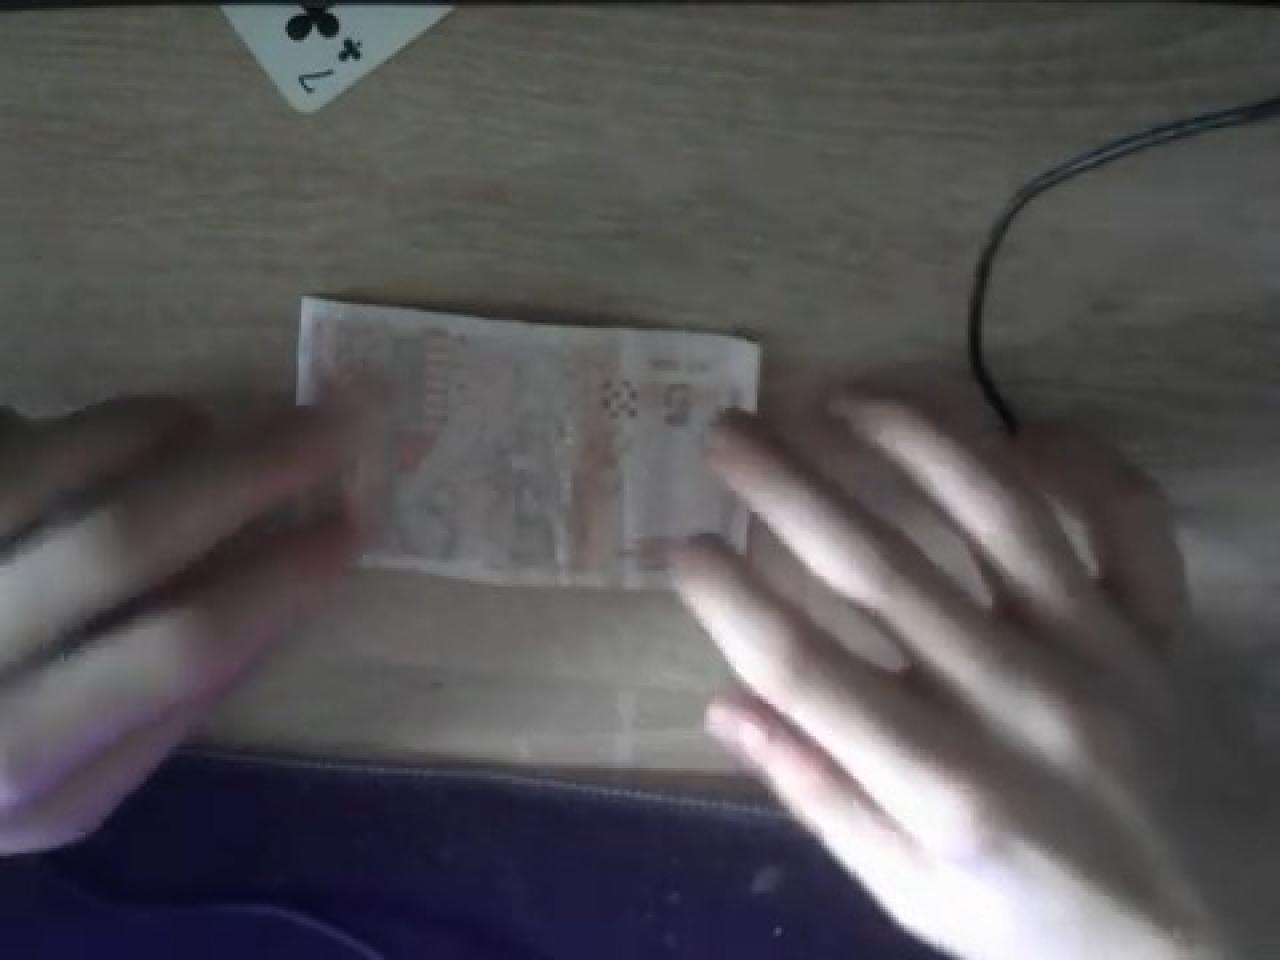5leva: (293, 290, 763, 592)
